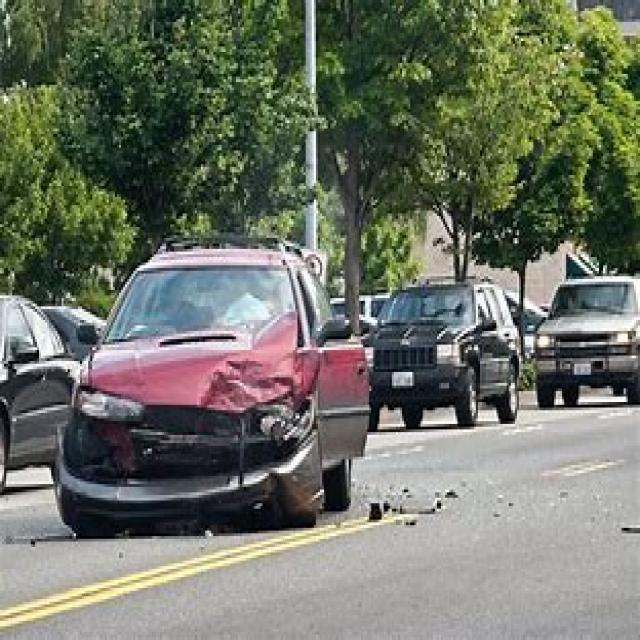Accident: (58, 170, 372, 545)
